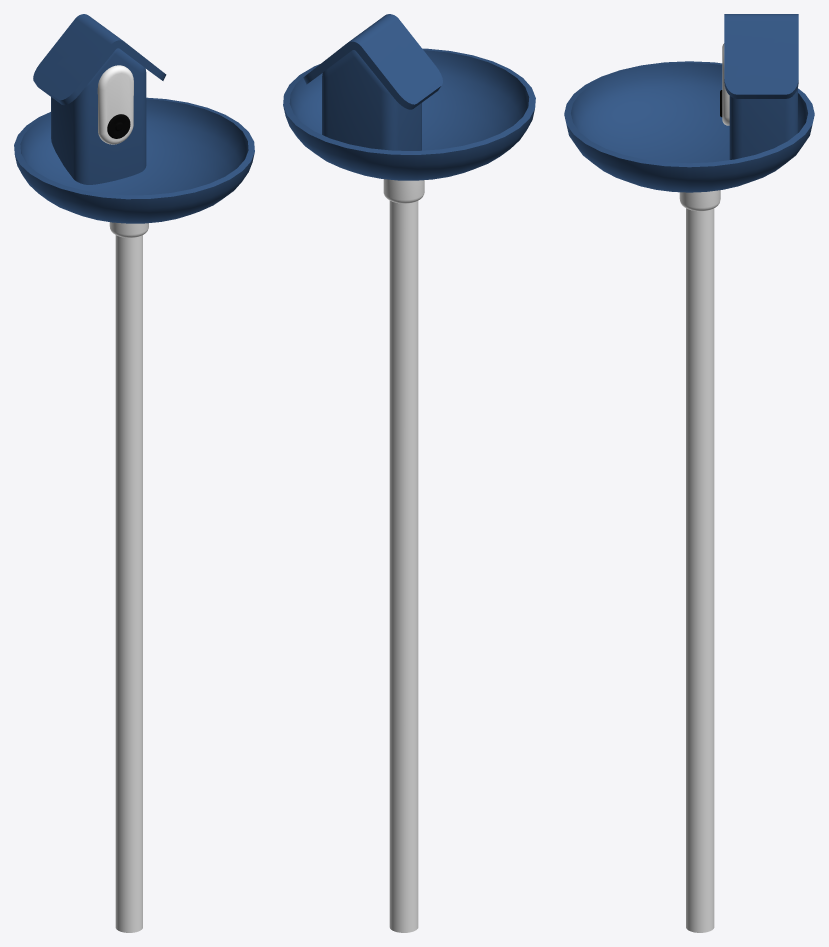
File: birdbath.glb
3 views of the same model, side by side, from view 1: azimuth 30°, elevation 25°; view 2: azimuth 150°, elevation 25°; view 3: azimuth 270°, elevation 25° (orthographic). The views are drawn at different scales.
Parts seen in each view (by area): view 1: Sphere, Cam_housing; view 2: Sphere, Cam_housing; view 3: Sphere, Cam_housing.
Part boxes in pixels (<box>): Sphere: <box>14,14,254,223</box>; Cam_housing: <box>97,65,148,932</box>; Sphere: <box>283,14,535,180</box>; Cam_housing: <box>383,179,424,932</box>; Sphere: <box>564,14,814,192</box>; Cam_housing: <box>679,43,729,932</box>.
Size of the model in its own units: 370 by 1487 by 370.
